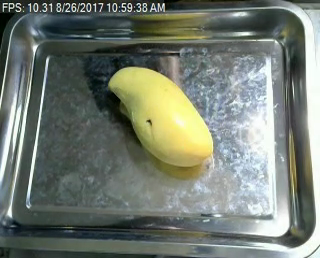Mango: (106, 66, 217, 173)
